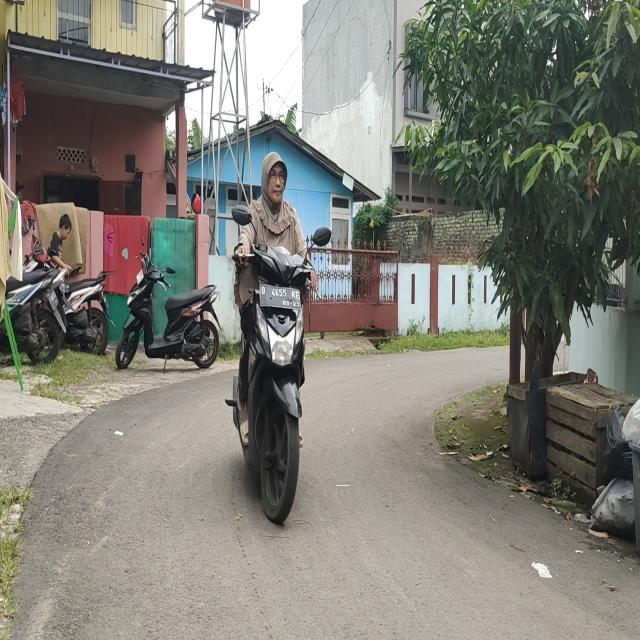no-helmet: (260, 151, 291, 208), (57, 212, 72, 238)
